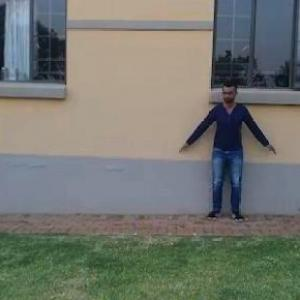land: (178, 83, 276, 233)
